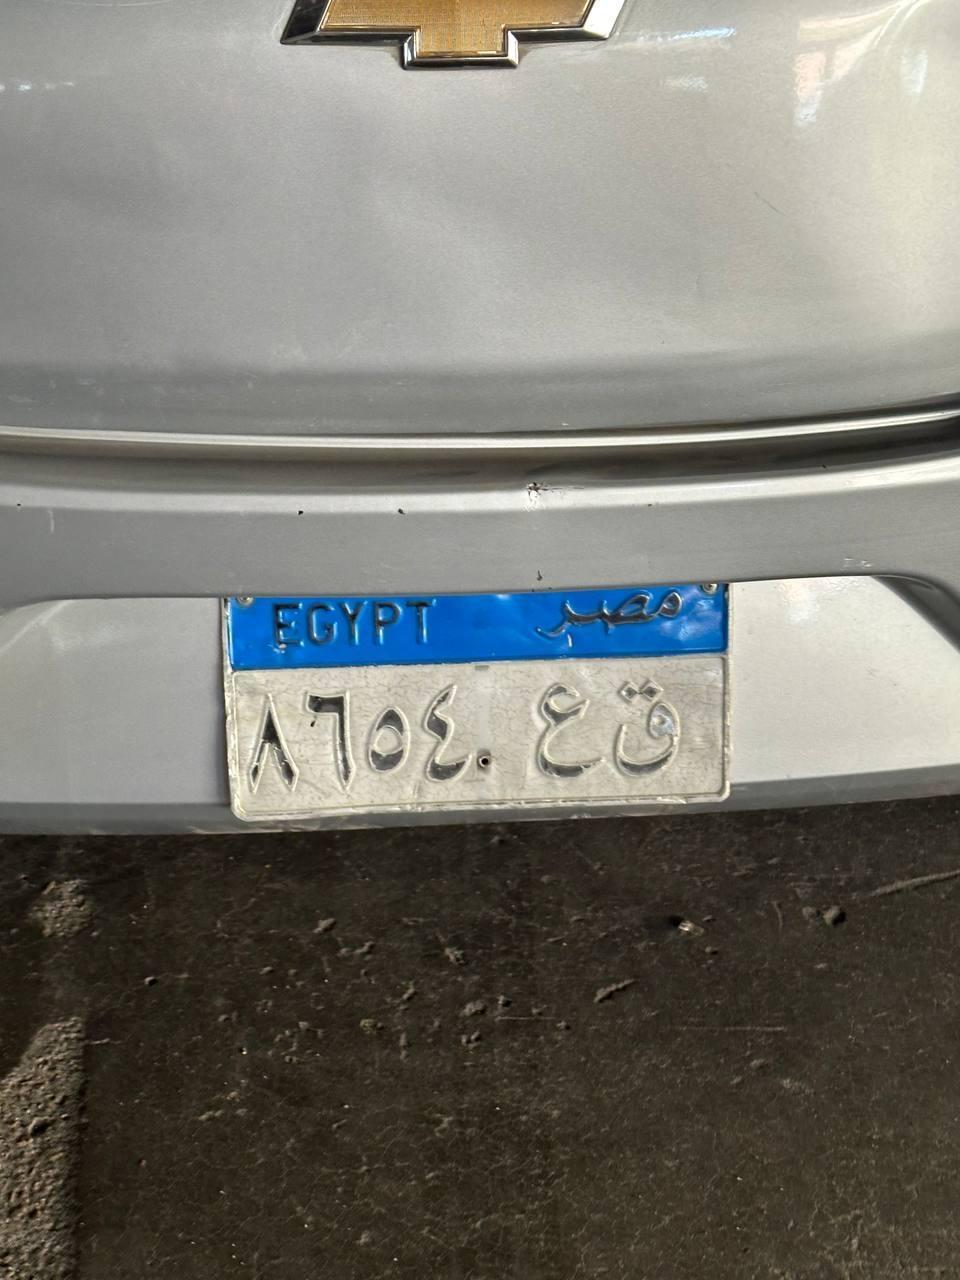4: (425, 676, 469, 792)
5: (355, 692, 413, 779)
6: (306, 682, 368, 789)
8: (245, 684, 293, 793)
Een: (523, 666, 610, 791)
License Plate: (220, 578, 744, 832)
Q: (594, 667, 704, 787)
